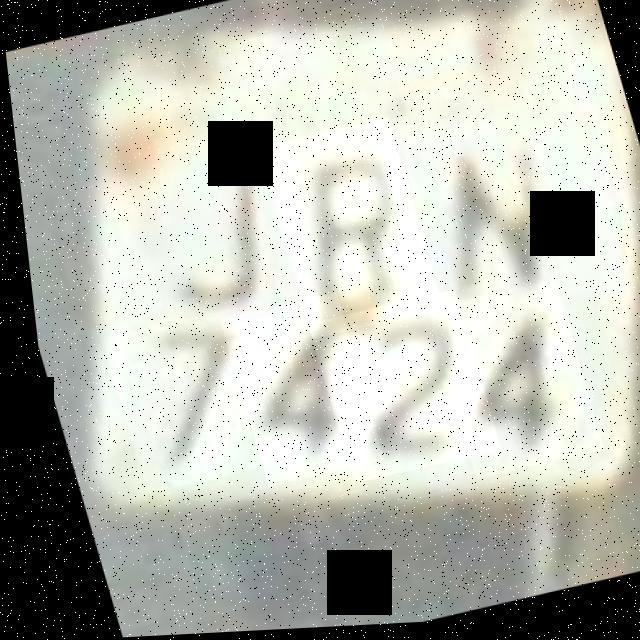2: (298, 292, 492, 487)
4: (417, 283, 595, 484), (210, 293, 375, 490)
7: (91, 307, 273, 496)
B: (251, 120, 438, 343)
J: (116, 132, 302, 341)
N: (371, 103, 585, 329)
